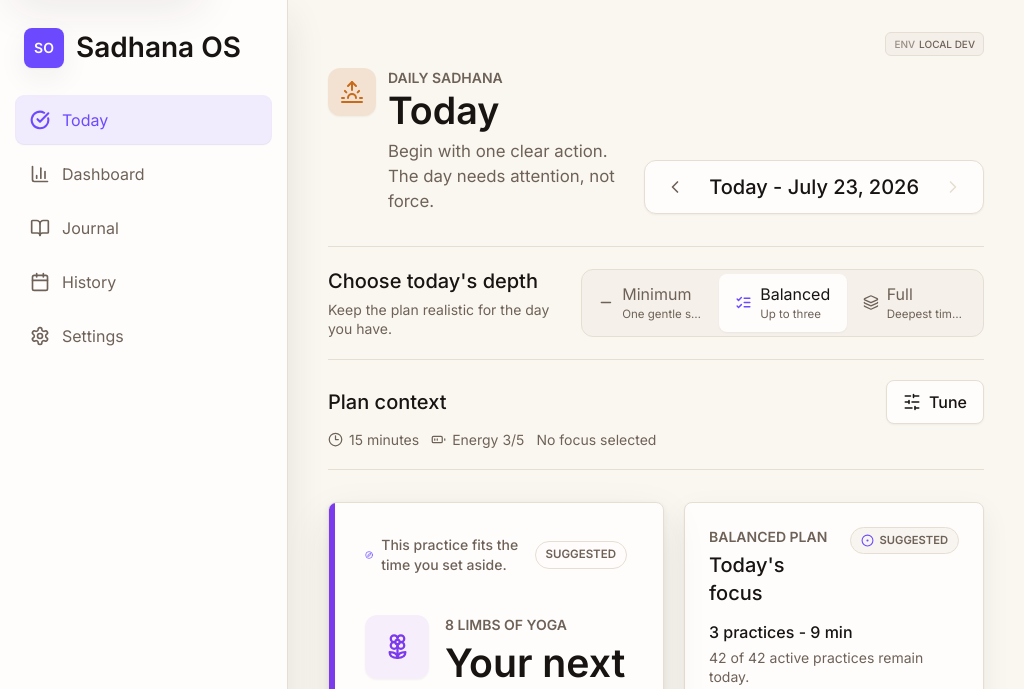
Test: App › switches to Journal tab
Click the button "Journal" at (144, 228), box [16,204,271,252]
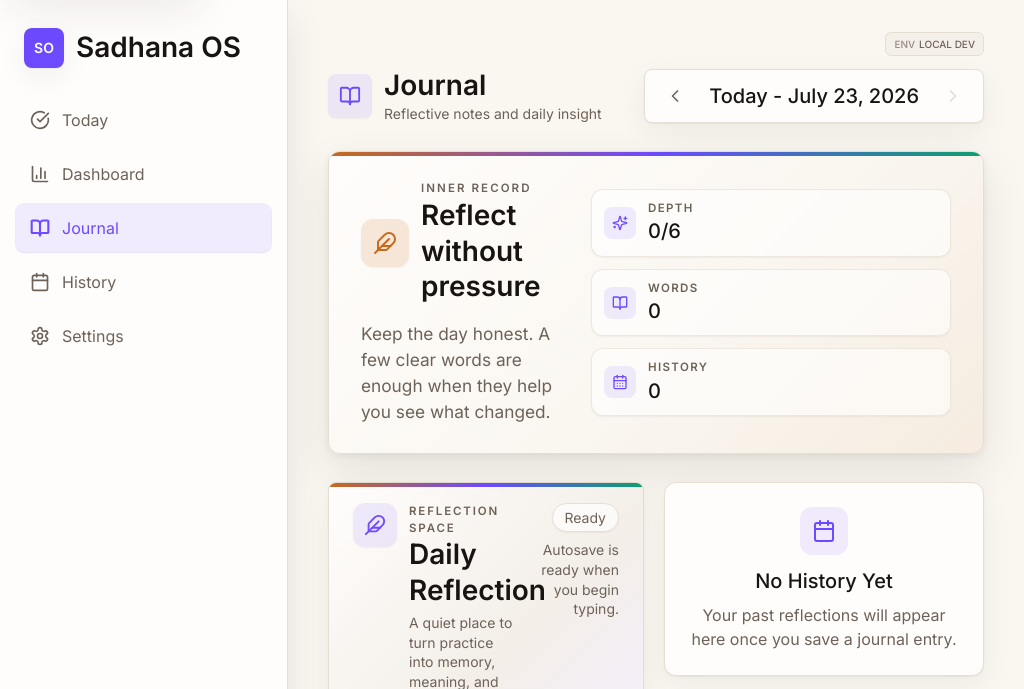
Expected: the heading "Journal" is shown, [384,68,486,102]
Expected: the heading "Daily Reflection" is shown, [409,537,515,609]
